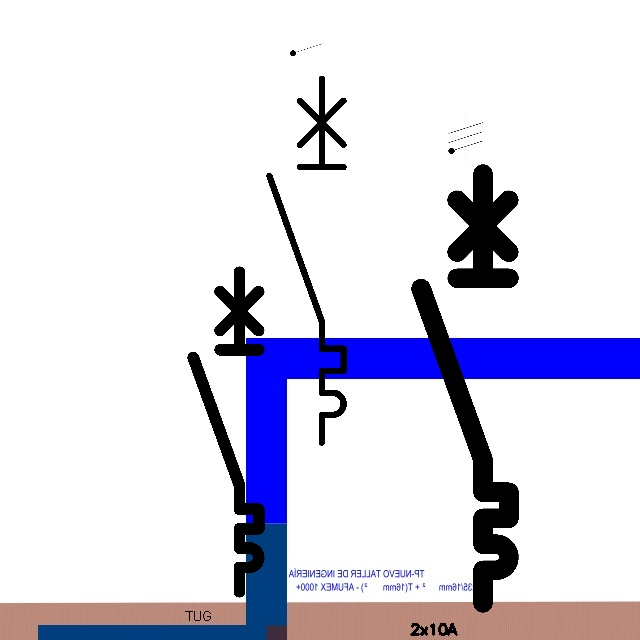interruptor_termomagnetico: (410, 162, 520, 613), (260, 69, 353, 451), (185, 264, 267, 600)
